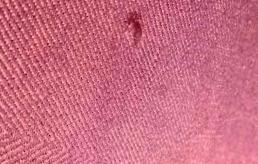knot: (125, 12, 149, 48)
